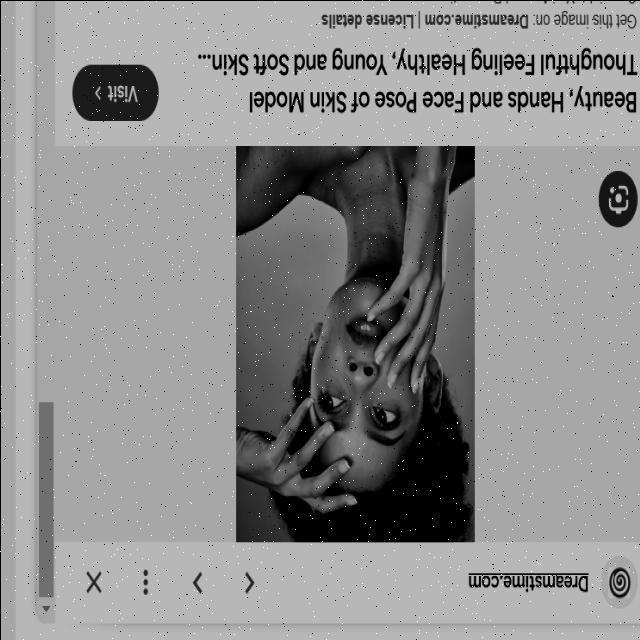face_with_hand: (297, 268, 440, 502)
